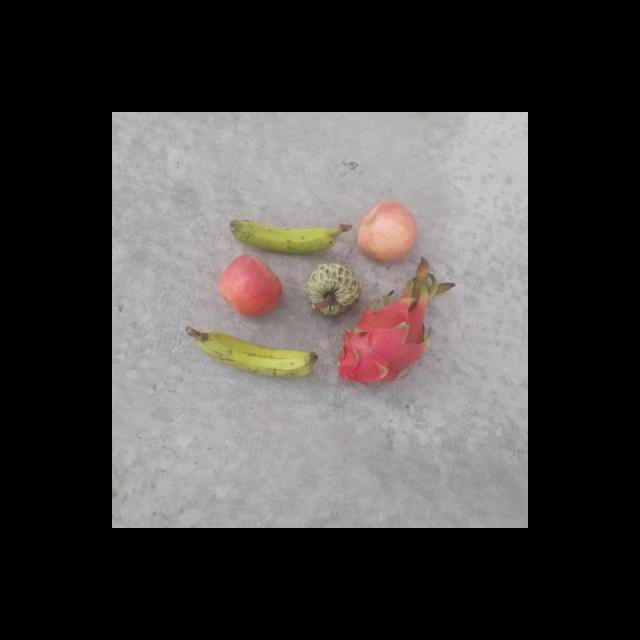Sakya fruit: (306, 262, 364, 318)
apple: (218, 251, 287, 317), (353, 198, 416, 262)
banana: (196, 326, 320, 382), (226, 210, 342, 259)
pitaya: (332, 299, 437, 391)
